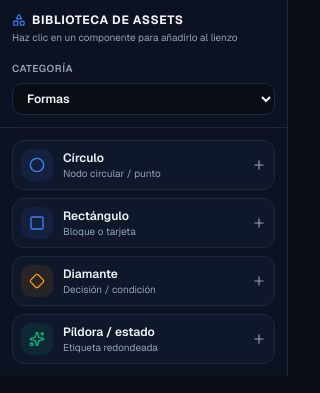
Test: AssetsSidebar — interactivity tab restored, step-level interactivity removed › shows 3 interactivity presets when interactividad category selected
The width and height of the screenshot is (320, 393).
Select "Interactividad" in the dropdown labelled "Categoría": (144, 99) [12, 83, 275, 115]
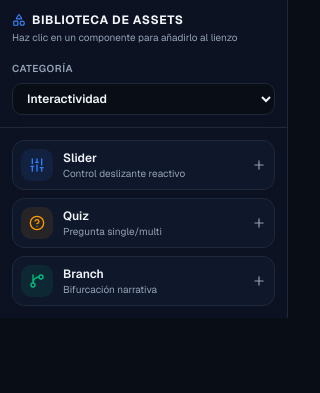
Now the heading "Slider" is shown, box [63, 150, 97, 166]
Now the heading "Quiz" is shown, box [63, 208, 89, 224]
Now the heading "Branch" is shown, box [63, 266, 104, 282]
